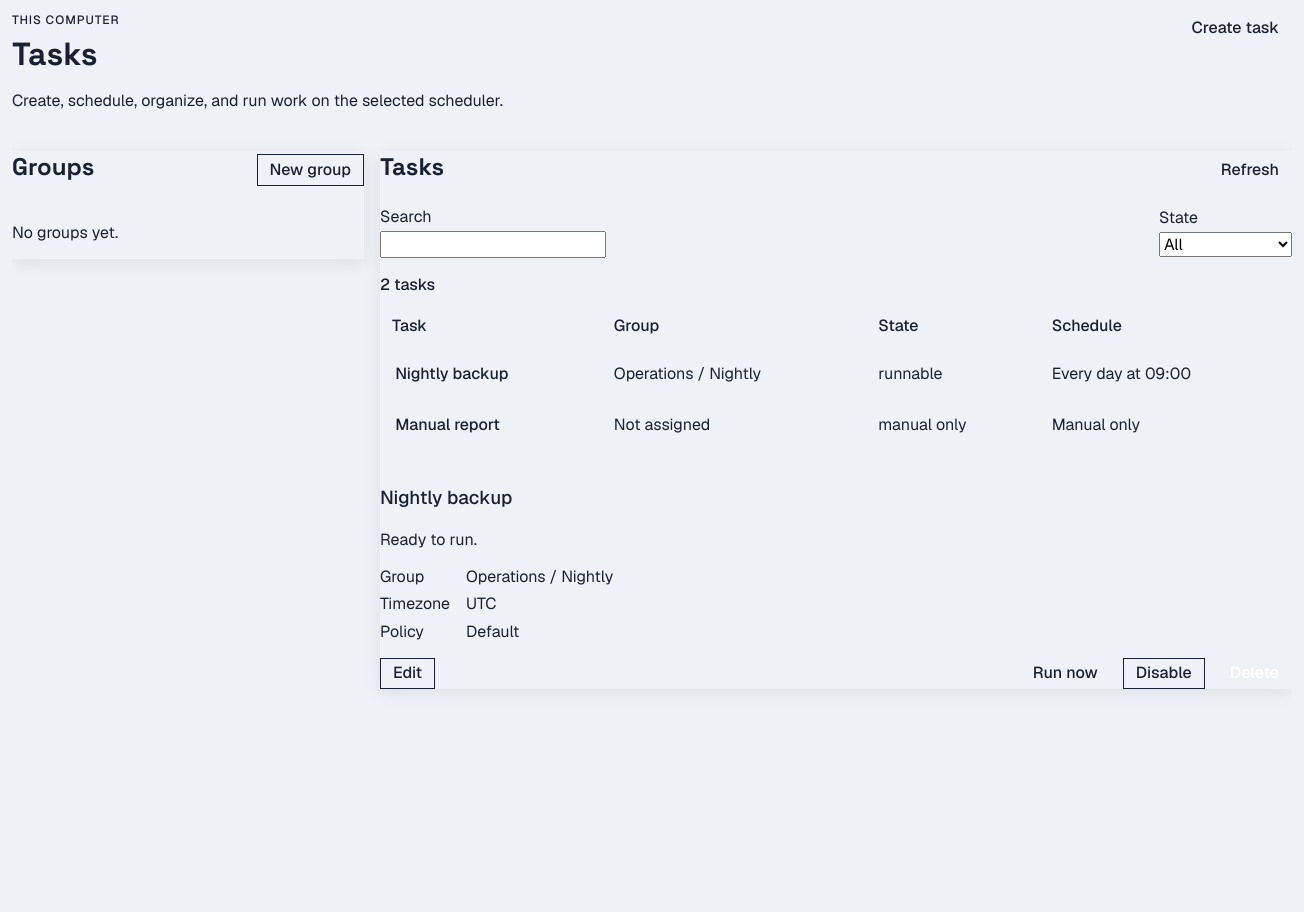
Test case: filters by search and effective state while preserving full group context
Expected: the button "Nightly backup" is shown, [392,360,512,387]
Expected: the text "Operations / Nightly" is shown 2 times, [602,348,866,399]; [466,566,613,587]
Select "Manual only" in the dropdown labelled "State" at (1226, 244), box [1159,232,1292,257]
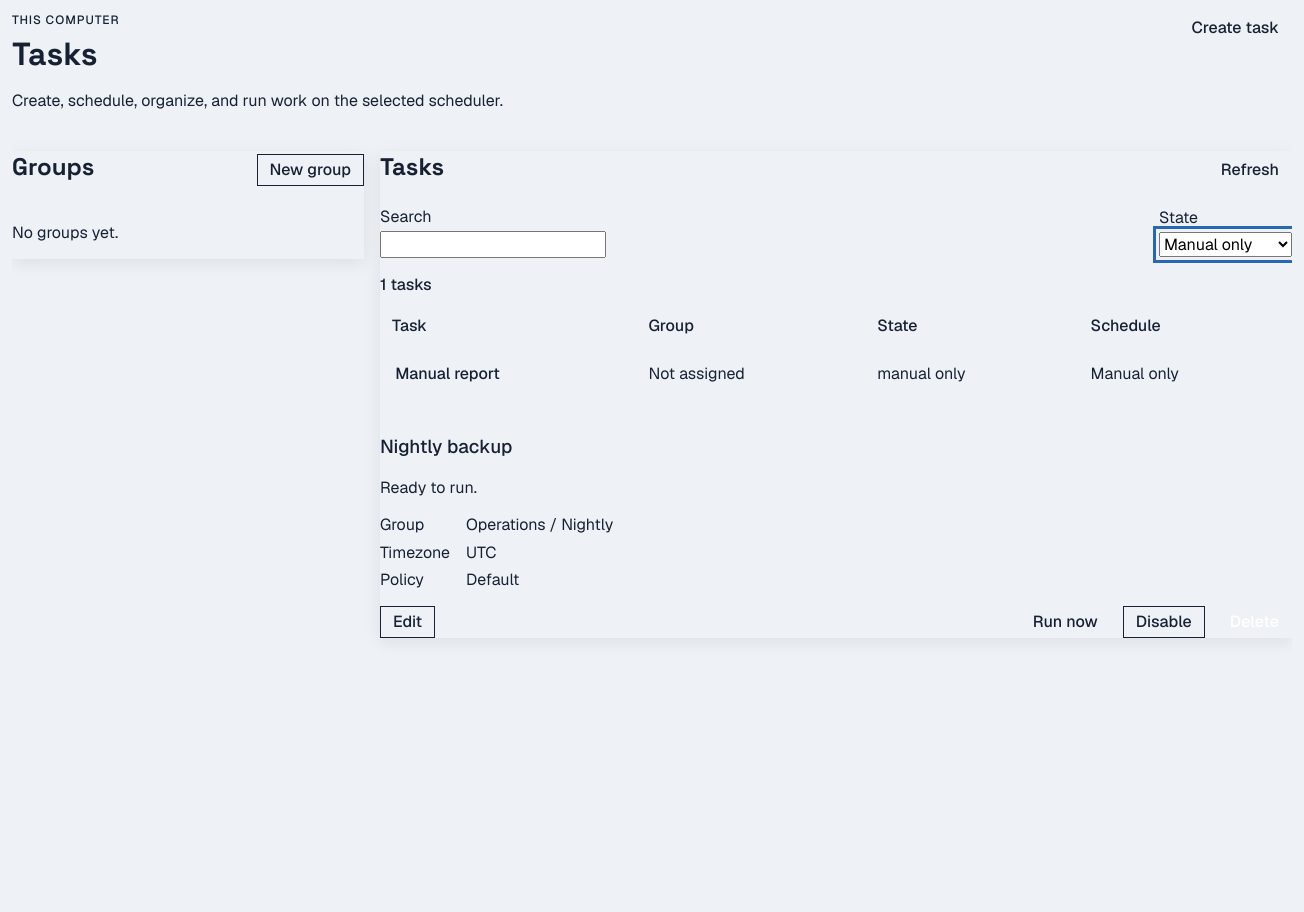
Expected: the button "Manual report" is shown, [392,360,503,387]
Type "missing" into the search field labelled "Search" at (493, 244), box [380,231,606,258]
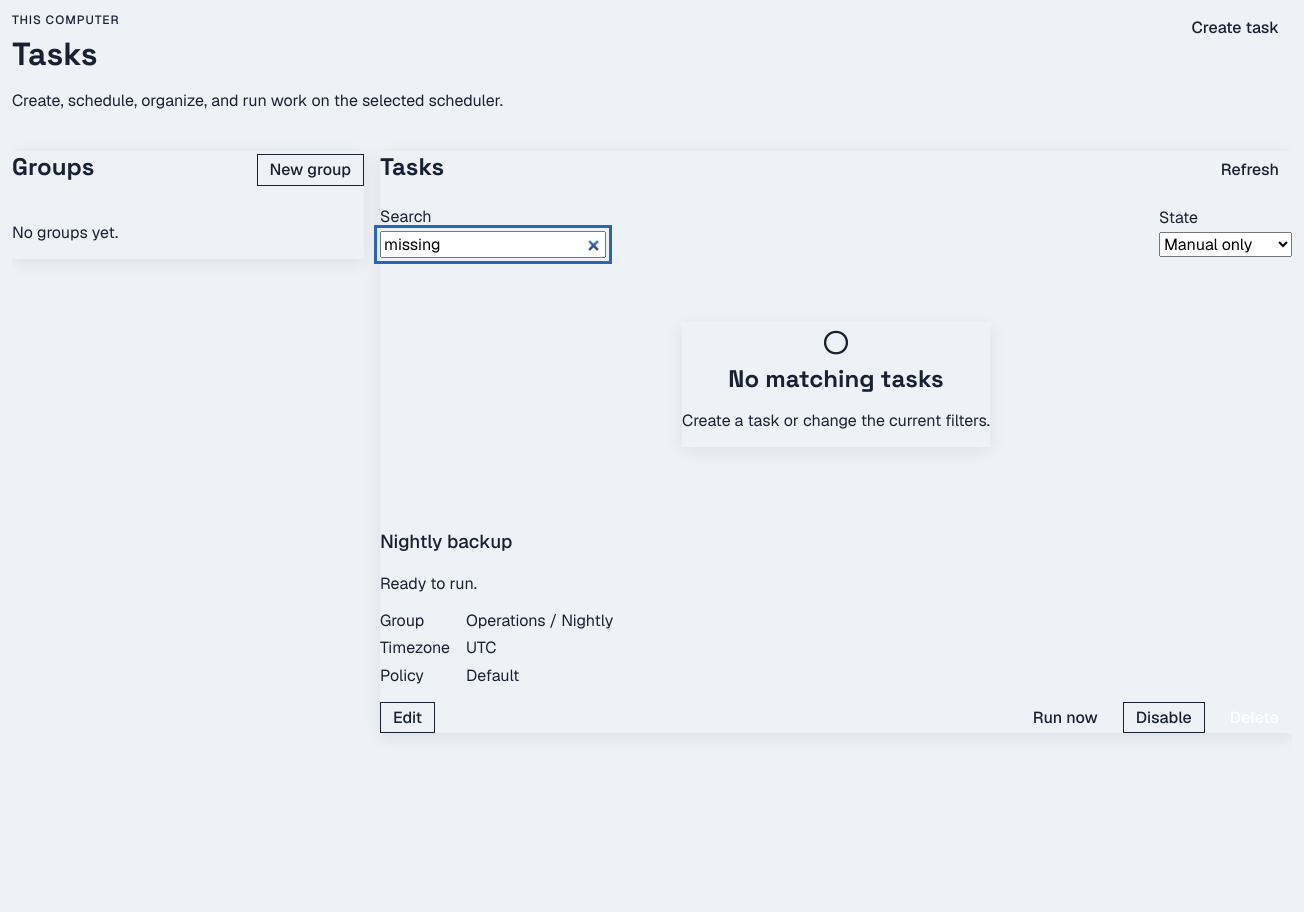
Expected: the heading "No matching tasks" is shown, [728,363,944,394]
